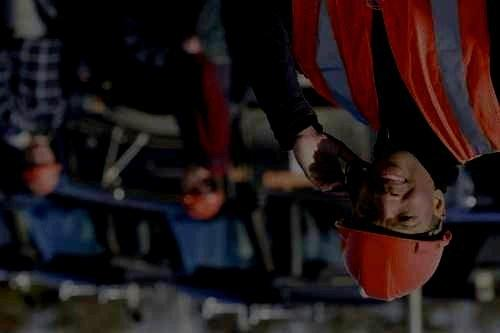helmet: (334, 150, 453, 303), (180, 166, 226, 220), (20, 144, 62, 196)
